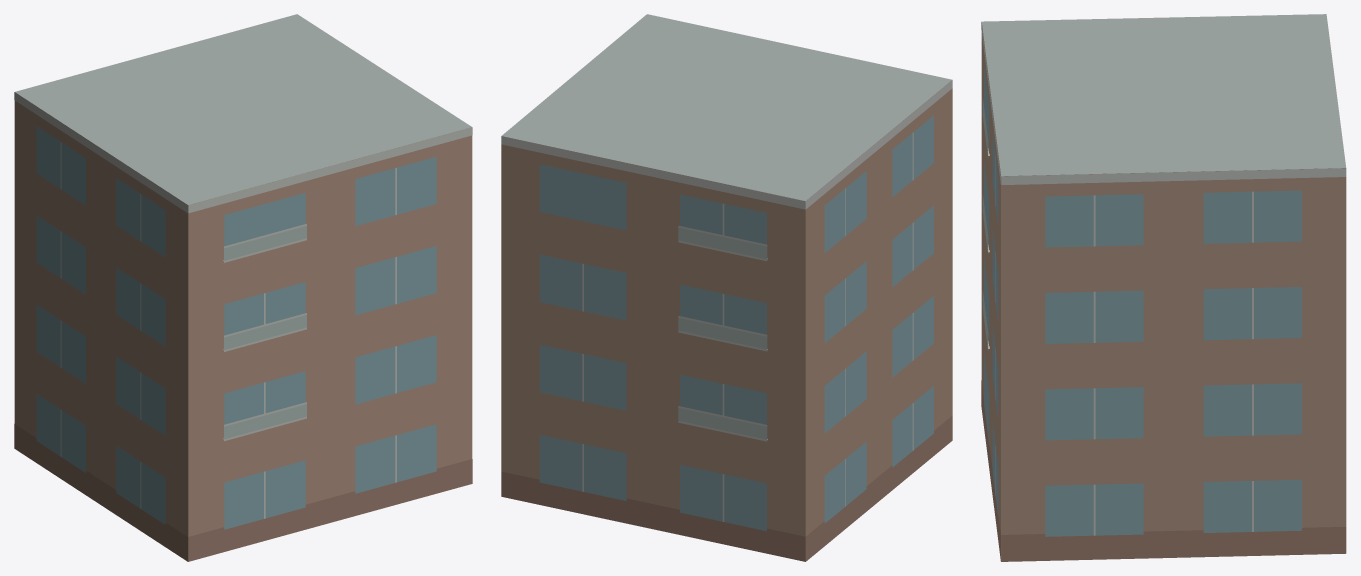
The model's file is survey-upis-32703858.glb.
The picture shows the model from 3 angles, left to right: view 1: azimuth 30°, elevation 25°; view 2: azimuth 150°, elevation 25°; view 3: azimuth 270°, elevation 25°; orthographic projection. The views are drawn at different scales.
Parts seen in each view (by area): view 1: survey-upis-32703858.tmp; view 2: survey-upis-32703858.tmp; view 3: survey-upis-32703858.tmp.
Part boxes in pixels (<box>): survey-upis-32703858.tmp: <box>14,14,472,561</box>; survey-upis-32703858.tmp: <box>501,14,952,561</box>; survey-upis-32703858.tmp: <box>981,14,1346,561</box>.
Size of the model in its own units: 9.48 by 10.5 by 9.01.
